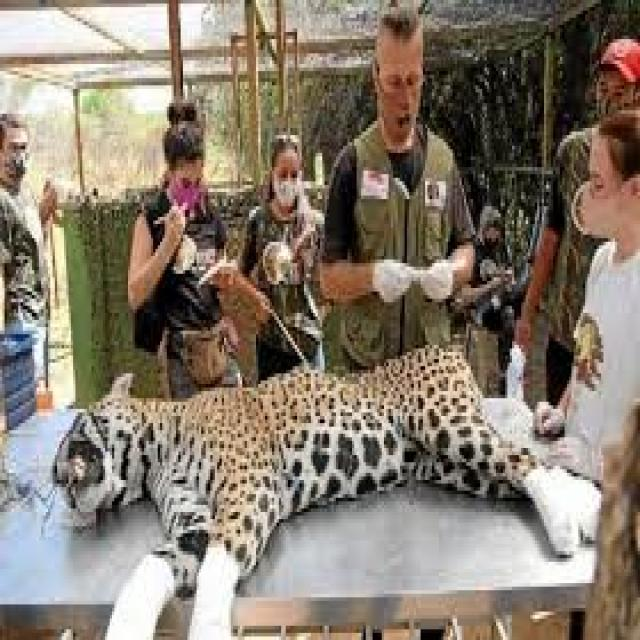Jaguar: (51, 345, 604, 640)
